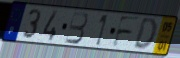1: (95, 14, 109, 47)
3: (22, 9, 42, 40)
4: (41, 9, 58, 43)
B: (64, 11, 89, 45)
D: (132, 17, 158, 52)
F: (110, 14, 141, 49)
